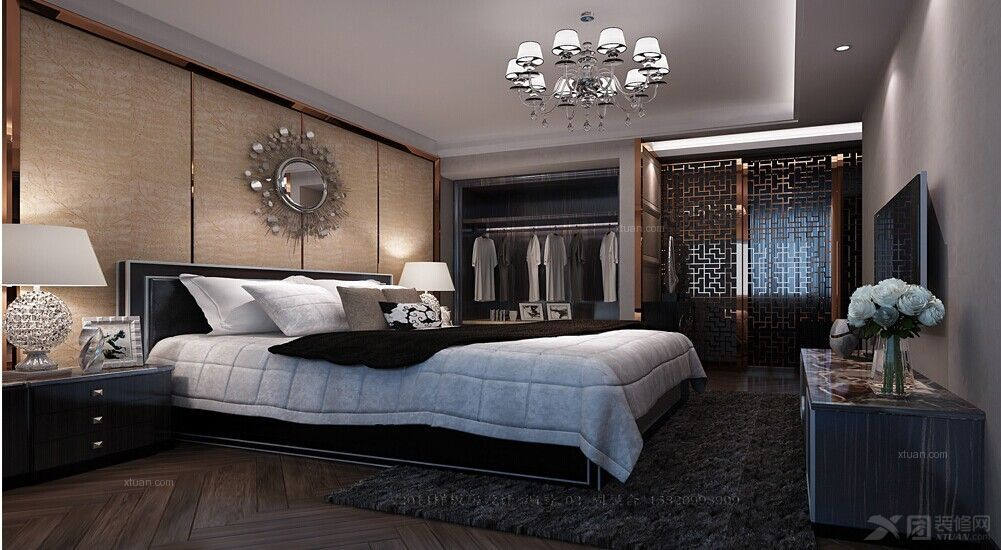床: (151, 323, 681, 470)
枕头: (177, 271, 452, 342)
灯: (503, 17, 679, 132), (5, 217, 109, 377), (398, 255, 456, 323), (836, 40, 861, 57)
